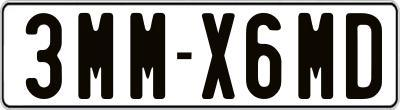3: (23, 11, 61, 99)
6: (243, 13, 281, 103)
D: (343, 11, 381, 103)
M: (77, 10, 117, 102), (297, 10, 335, 97), (129, 13, 164, 105)
X: (200, 12, 233, 102)
